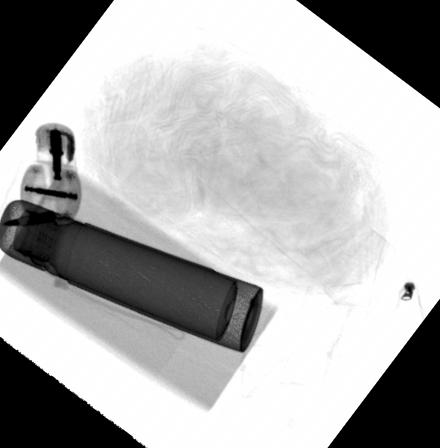Bullet: (0, 209, 56, 228)
